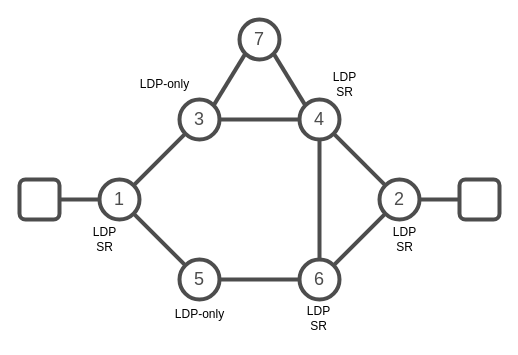
The diagram is 518 pixels wide and 355 high, and some of its shapes have lost their labels. Each missing label, with the centre of its shape:
"lx1" goes at [39,199].
"lx2" goes at [479,199].
